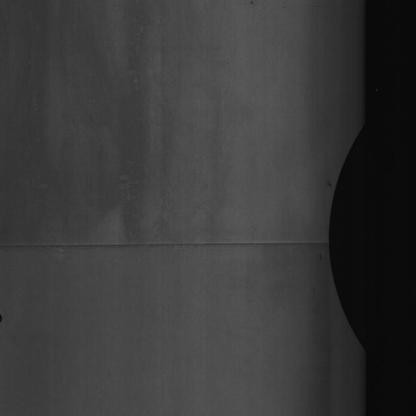welding_line: (2, 229, 337, 262)
